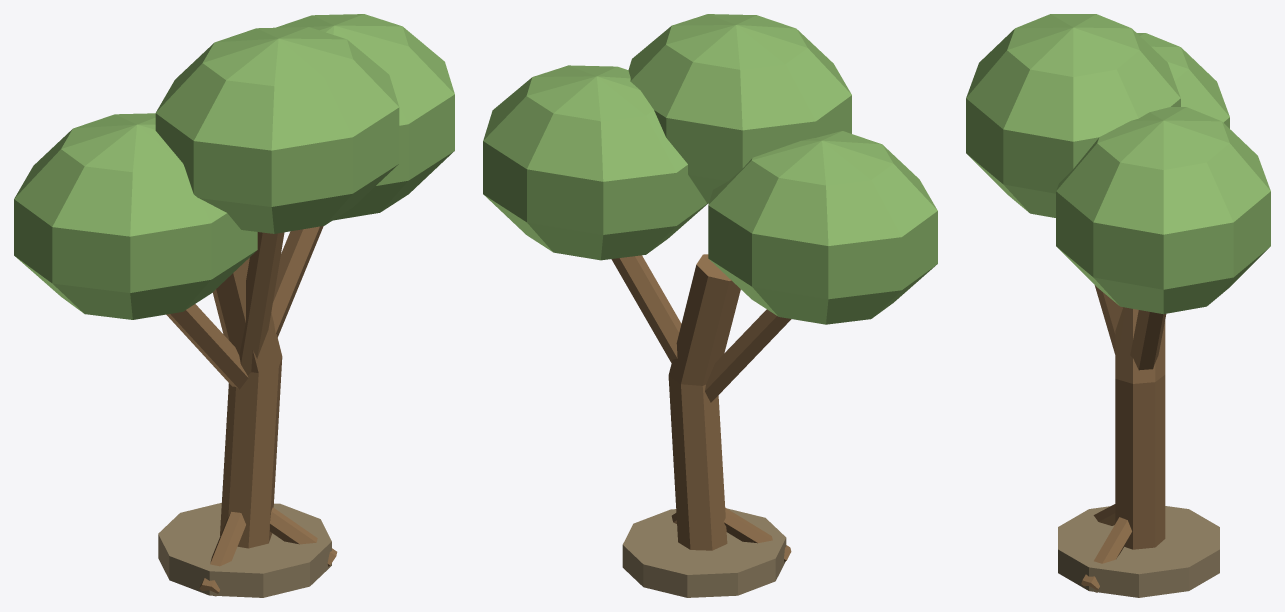
File: AQUA-026.glb
The picture shows the model from 3 angles, left to right: view 1: azimuth 30°, elevation 25°; view 2: azimuth 150°, elevation 25°; view 3: azimuth 270°, elevation 25°; orthographic projection. The views are drawn at different scales.
Visible parts, largest first — view 1: AQUA-026; view 2: AQUA-026; view 3: AQUA-026.
Boxes of the visible parts, <box> form: AQUA-026: <box>14,14,454,597</box>; AQUA-026: <box>483,14,937,597</box>; AQUA-026: <box>966,14,1270,597</box>.
Bounding box in the file's own units: 2.98 × 3.62 × 1.86.
